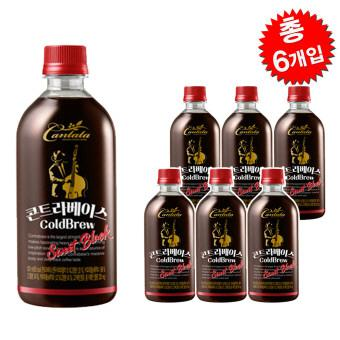contrabass_sweetblack: (12, 42, 122, 309), (243, 168, 303, 306), (195, 164, 247, 305), (148, 169, 195, 308)
